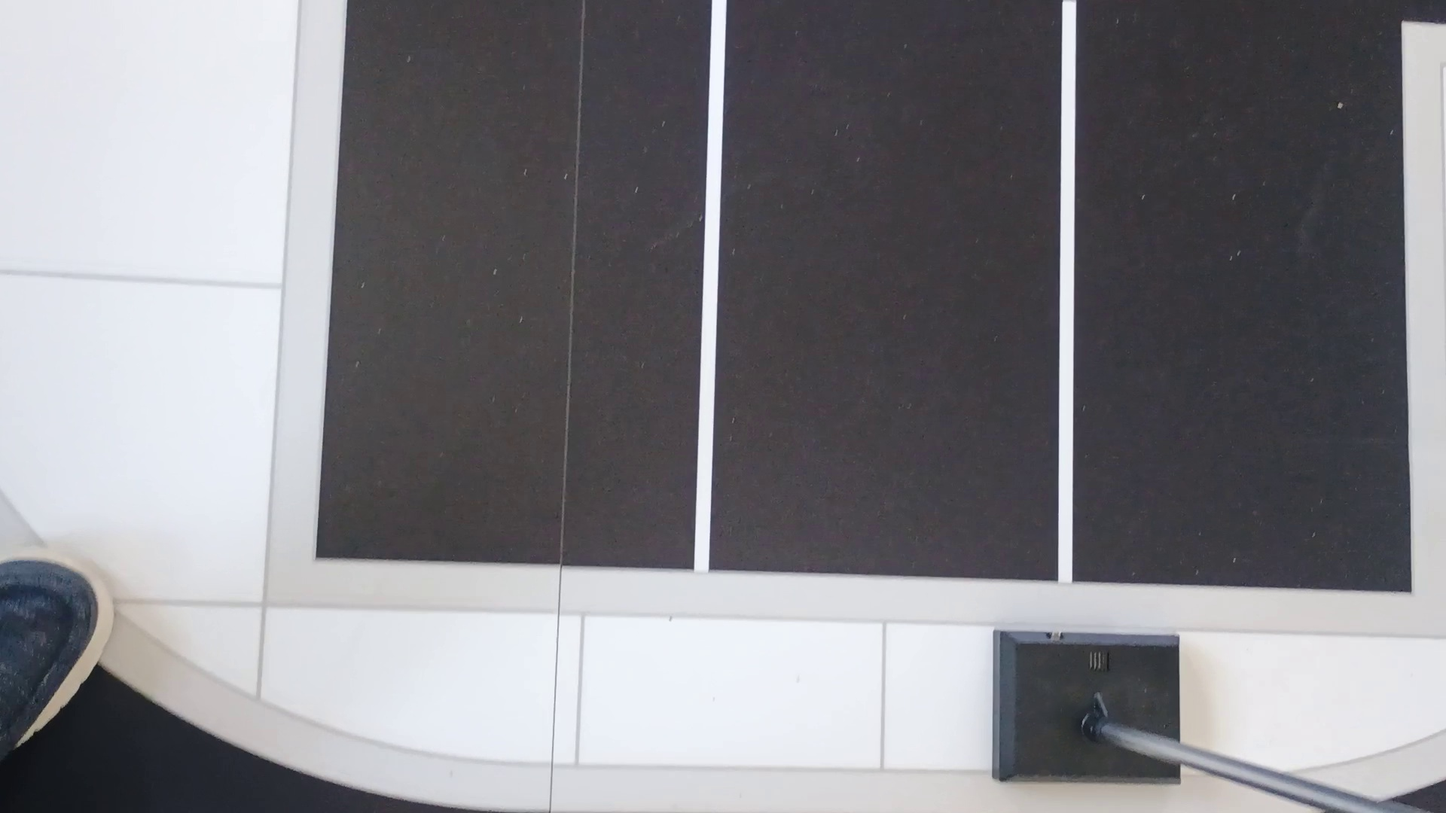Parking: (314, 1, 718, 567), (704, 0, 1068, 581), (1065, 0, 1413, 591)
Street: (317, 0, 1445, 590), (0, 668, 478, 812), (1397, 781, 1445, 812)
